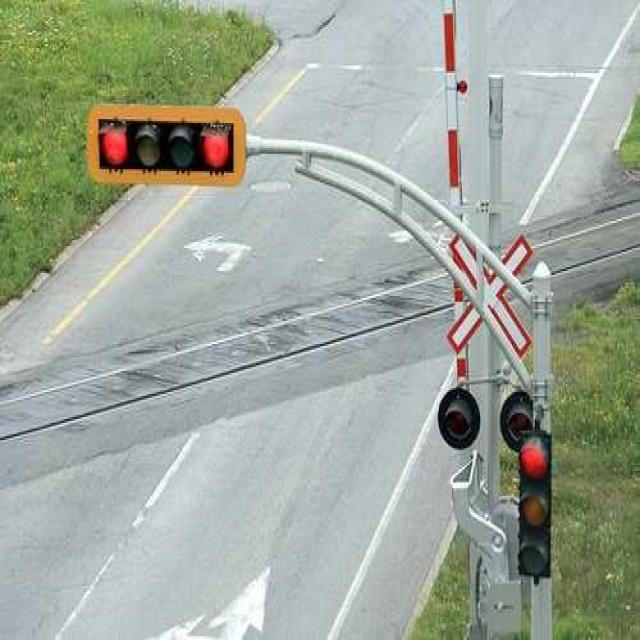Traffic Light -Red-: (96, 113, 236, 179)
Traffic Light -Yellow-: (512, 434, 554, 580)
